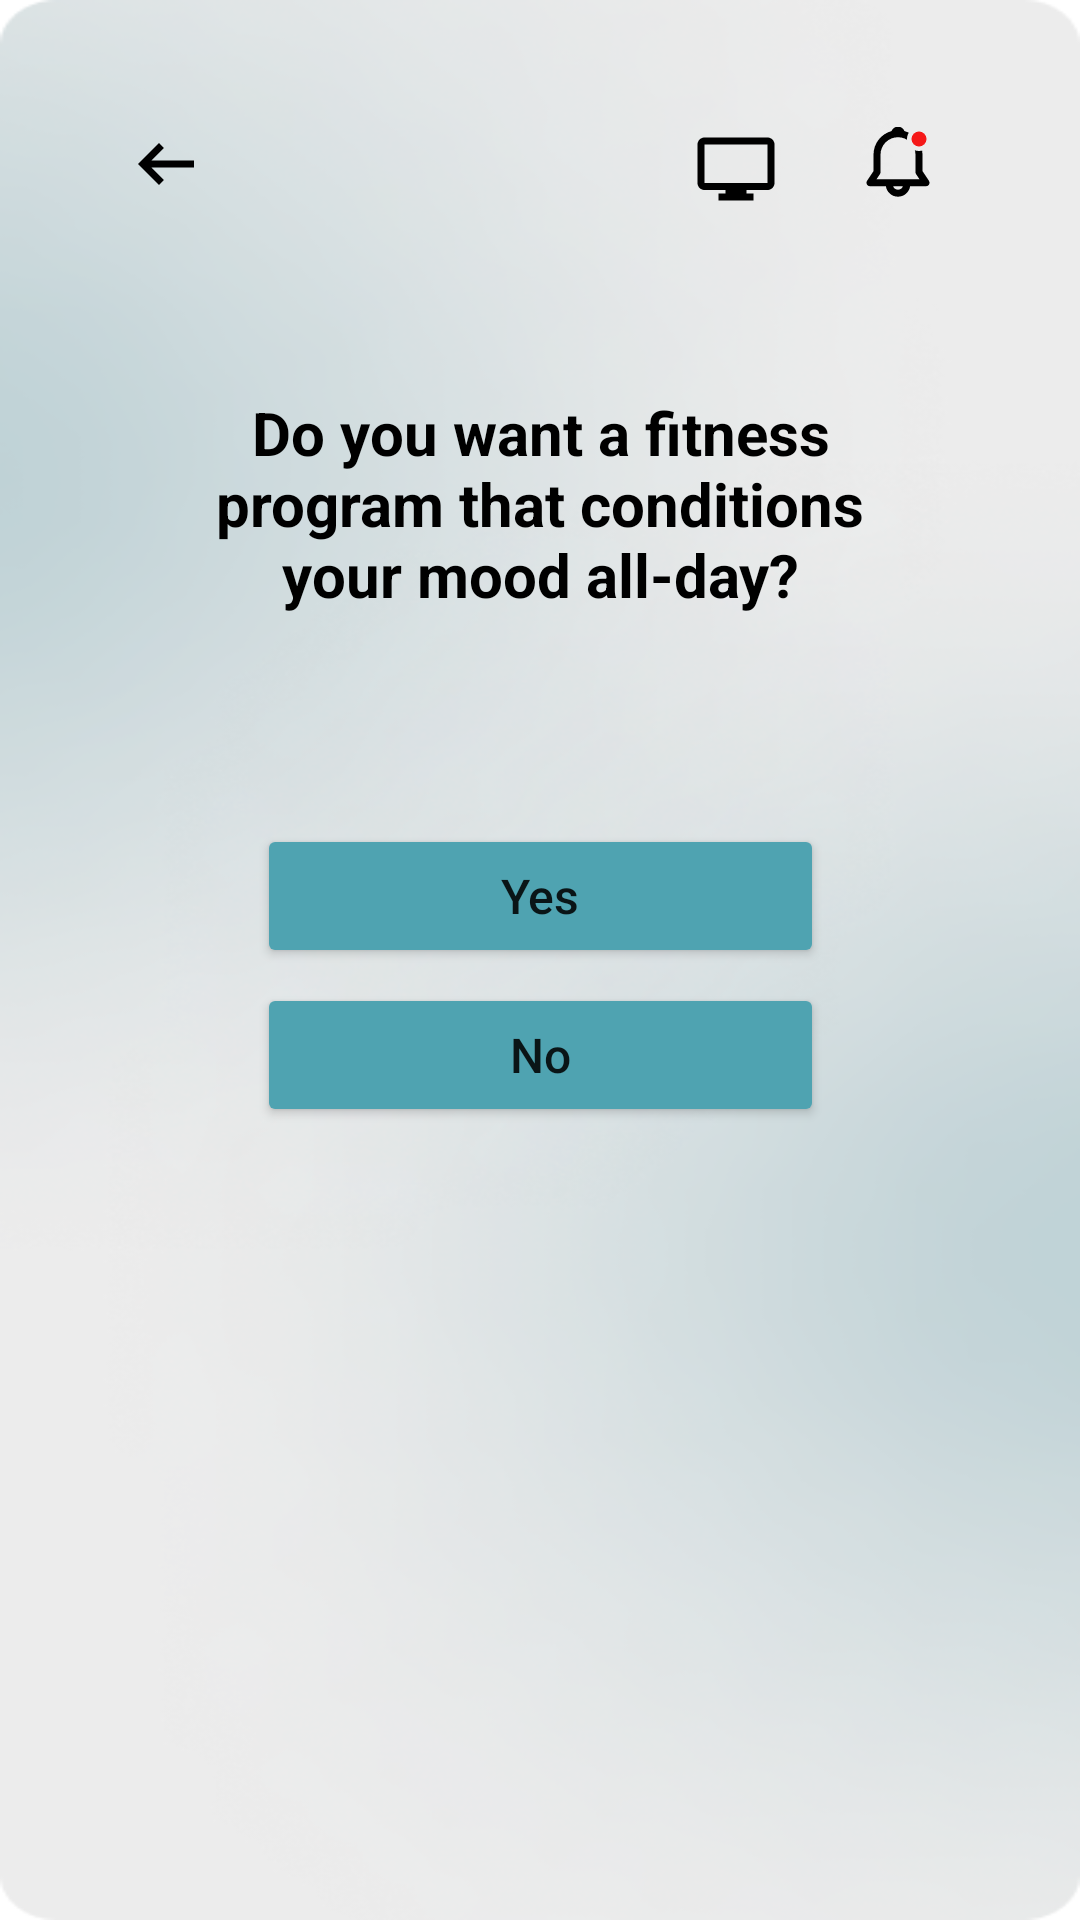

Named icons in this screenshot (1080px×1920px) and their bounding boxes, region(x1, y1, x2, y2):
mi notification: region(866, 127, 930, 197)
monitor: region(697, 137, 775, 201)
short left: region(138, 143, 194, 185)
